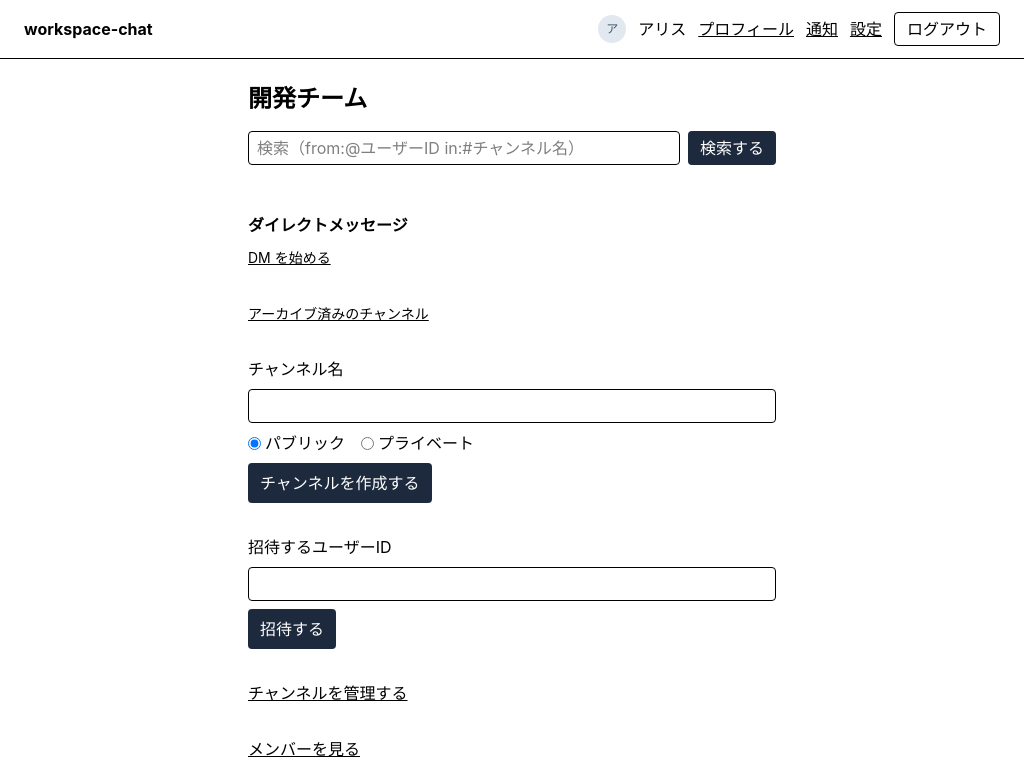
Test: 復元（F-35・3.2） › アーカイブ済みには「復元する」を出し、送って行を置き換え、一般の一覧を取り直す
Click the button "チャンネルを管理する" at (328, 693), box [248,681,408,705]
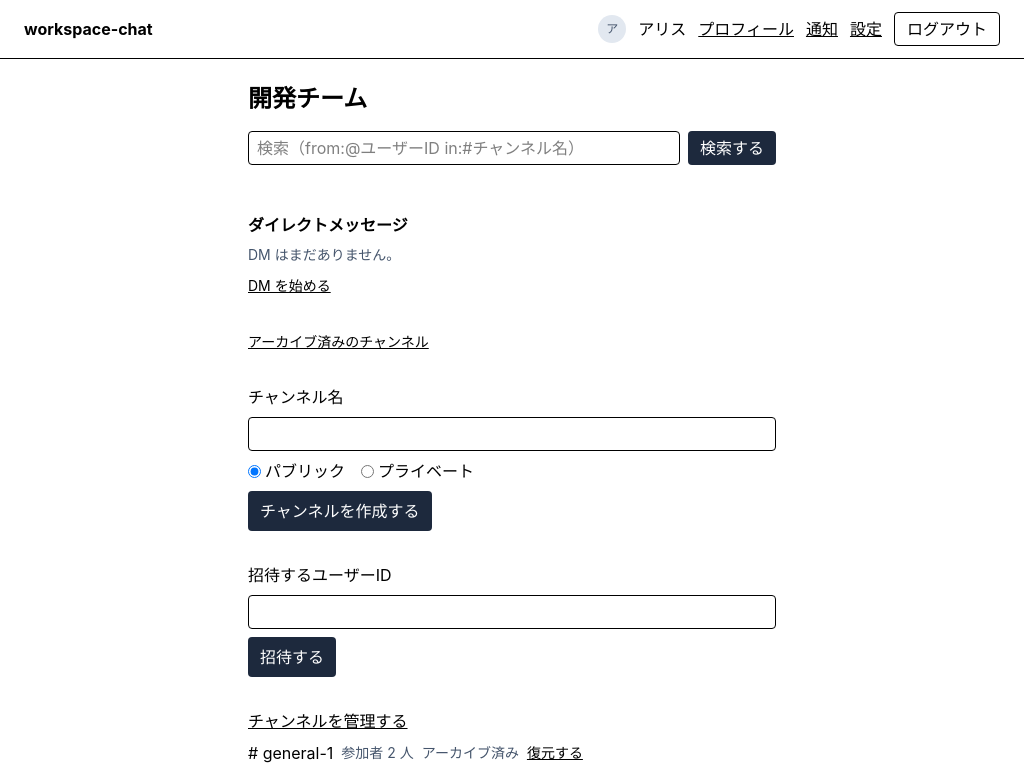
Click the button with aria-label "general-1 を復元する" at (555, 753), box [527,743,583,763]
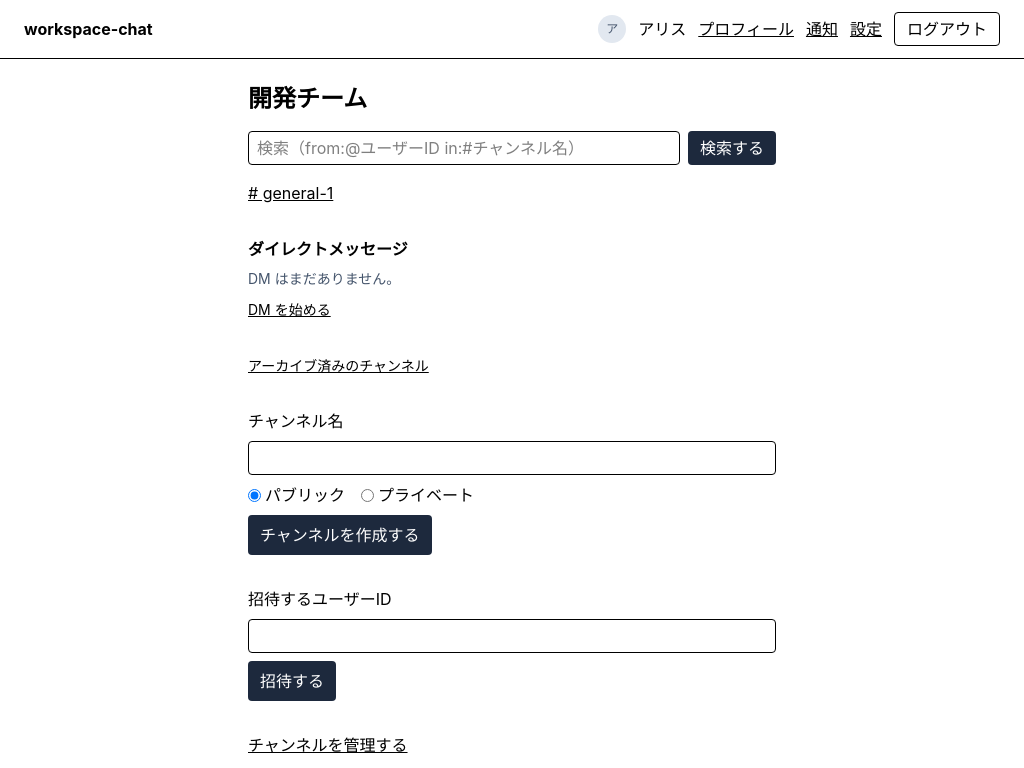
Expected: the list item no longer shows "アーカイブ済み"
Expected: the link "# general-1" is shown, [248,181,333,205]
